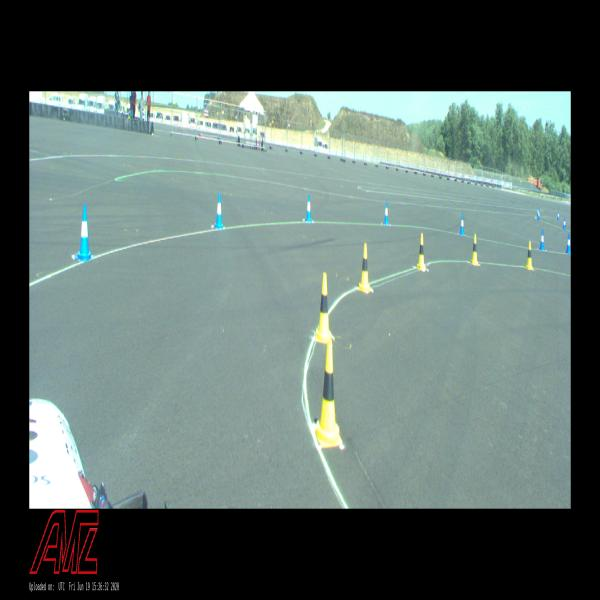blue_cone: (75, 205, 93, 261), (214, 193, 223, 230), (304, 194, 312, 221), (383, 202, 389, 224), (539, 230, 545, 251), (460, 214, 464, 235), (566, 234, 570, 254), (563, 218, 566, 230), (537, 210, 540, 220), (536, 206, 538, 216), (557, 212, 559, 220)
yellow_cone: (316, 340, 342, 447), (316, 273, 332, 342), (359, 243, 370, 291), (416, 233, 425, 270), (524, 242, 533, 270), (470, 235, 478, 265)
